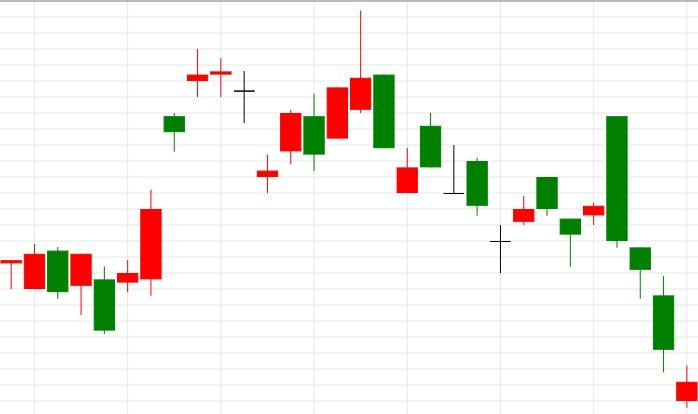shooting_star_fall: (256, 10, 372, 193)
